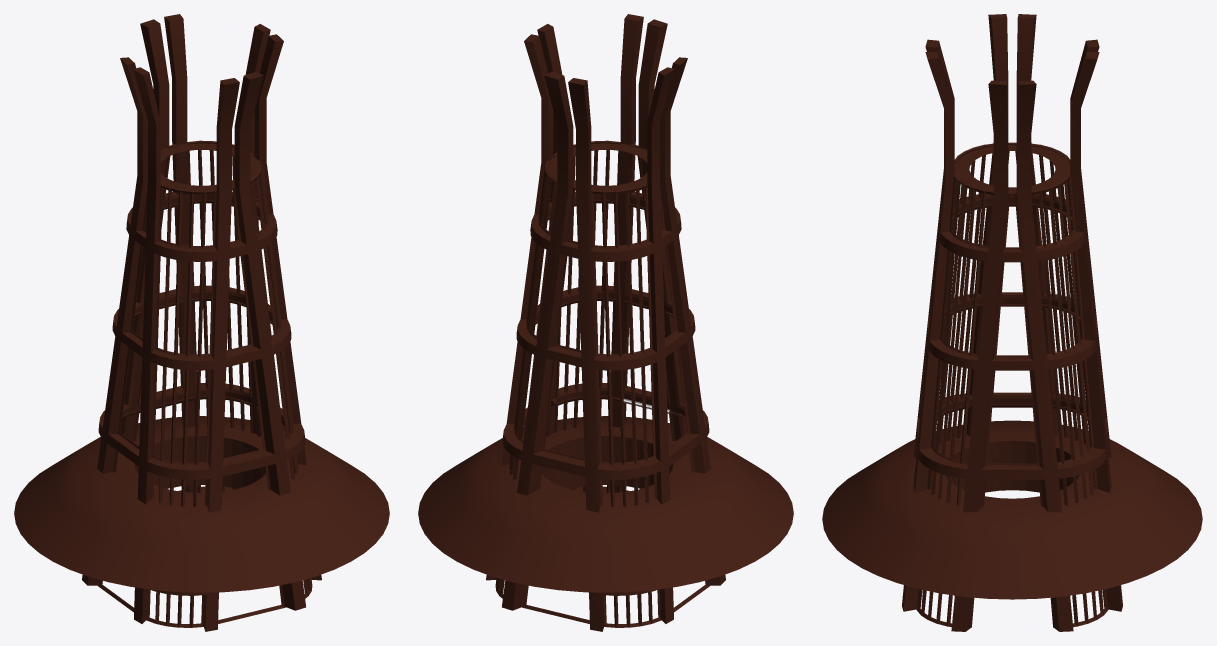
The model's file is warka1.fbx.
3 renders of one model, left to right at view 1: azimuth 30°, elevation 25°; view 2: azimuth 150°, elevation 25°; view 3: azimuth 270°, elevation 25°, orthographic.
Visible parts, largest first — view 1: Cube.002, Torus, Cube.003; view 2: Cube.002, Torus, Cube.003; view 3: Torus, Cube.002, Cube.003.
Boxes of the visible parts, box(x1,y1,x2,y2) form: Cube.002: box(82, 14, 321, 631); Torus: box(14, 416, 389, 592); Cube.003: box(98, 140, 312, 627); Cube.002: box(486, 14, 725, 631); Torus: box(418, 416, 793, 592); Cube.003: box(495, 140, 709, 627); Torus: box(822, 420, 1202, 599); Cube.002: box(902, 14, 1122, 631); Cube.003: box(916, 142, 1108, 626).
Size of the model in its own units: 49 by 76.57 by 49.
